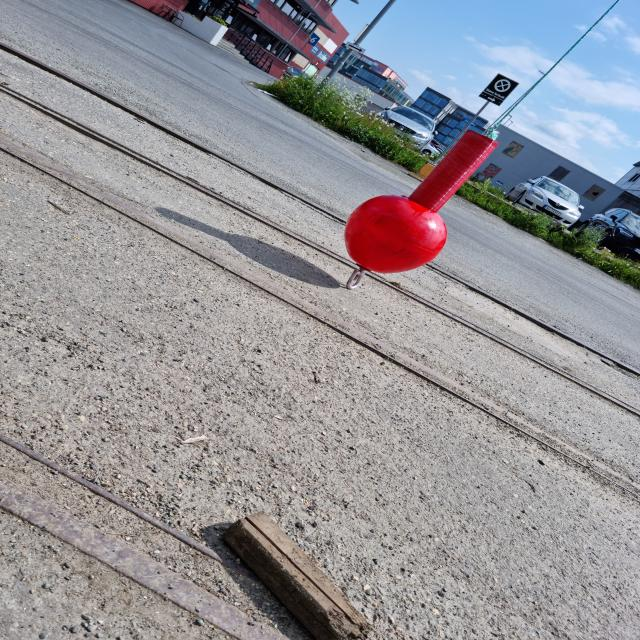red: (344, 131, 498, 274)
